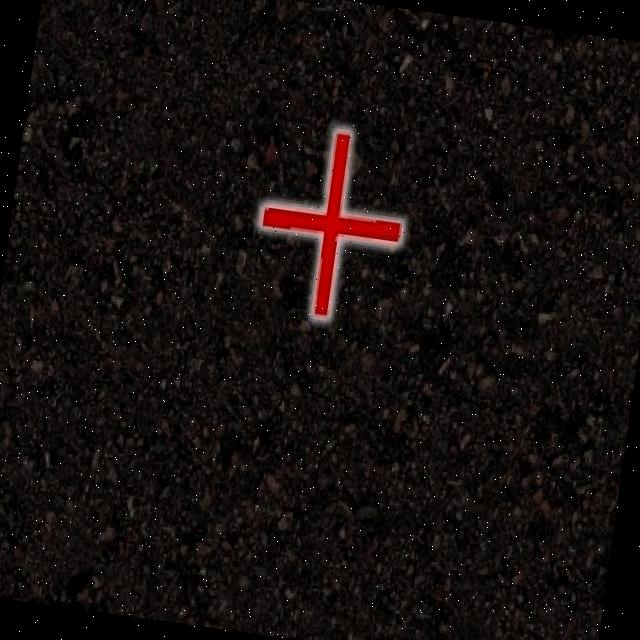x_marker: (248, 121, 413, 325)
